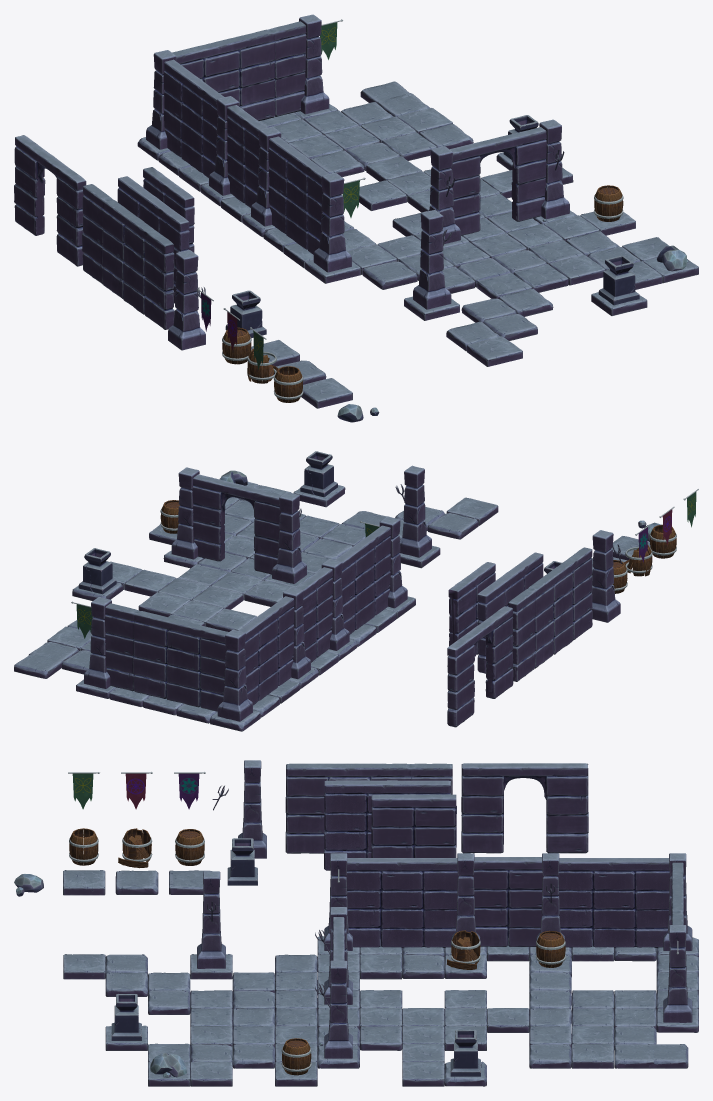
Rendered from modular_dungeon_kit.glb.
The picture shows the model from 3 angles, top to bottom: view 1: azimuth 30°, elevation 25°; view 2: azimuth 150°, elevation 25°; view 3: azimuth 270°, elevation 25°; orthographic projection. The views are drawn at different scales.
Parts seen in each view (by area): view 1: Wall3_01, Wall3_02, Wall4_02, Wall4_01, Wall2_02, Wall2_03, Wall_03, Wall2_01, Pillar_01, Pillar_04, Pillar_06, Pillar_03 (+55 smaller); view 2: Wall3_02, Wall3_01, Wall4_02, Wall4_01, Wall2_03, Wall2_02, Wall_03, Wall2_01, Wall_01, Pillar_08, Pillar_03, Pillar_06 (+43 smaller); view 3: Wall2_02, Wall2_03, Wall4_01, Wall_03, Wall3_01, Wall_01, Wall2_01, Pillar_02, Pillar_09, Pillar_06, Pillar_01, Pillar_05 (+80 smaller).
Boxes of the visible parts, left/top/right/bottom form: Wall3_01: left=82, top=184, right=174, bottom=329; Wall3_02: left=172, top=21, right=306, bottom=120; Wall4_02: left=449, top=127, right=547, bottom=235; Wall4_01: left=14, top=135, right=86, bottom=266; Wall2_02: left=267, top=136, right=329, bottom=254; Wall2_03: left=163, top=59, right=224, bottom=177; Wall_03: left=226, top=105, right=267, bottom=207; Wall2_01: left=117, top=176, right=189, bottom=303; Pillar_01: left=168, top=250, right=205, bottom=350; Pillar_04: left=313, top=172, right=351, bottom=272; Pillar_06: left=413, top=210, right=451, bottom=309; Pillar_03: left=429, top=146, right=460, bottom=243; Wall3_02: left=102, top=603, right=228, bottom=711; Wall3_01: left=508, top=547, right=592, bottom=681; Wall4_02: left=191, top=474, right=281, bottom=574; Wall4_01: left=447, top=606, right=513, bottom=727; Wall2_03: left=238, top=596, right=294, bottom=705; Wall2_02: left=335, top=525, right=391, bottom=634; Wall_03: left=295, top=567, right=333, bottom=662; Wall2_01: left=477, top=552, right=543, bottom=673; Wall_01: left=448, top=562, right=495, bottom=656; Pillar_08: left=217, top=629, right=252, bottom=721; Pillar_03: left=272, top=492, right=306, bottom=583; Pillar_06: left=399, top=465, right=431, bottom=557; Wall2_02: left=339, top=858, right=458, bottom=947; Wall2_03: left=551, top=858, right=670, bottom=947; Wall4_01: left=461, top=763, right=588, bottom=853; Wall_03: left=467, top=857, right=548, bottom=946; Wall3_01: left=285, top=763, right=452, bottom=853; Wall_01: left=371, top=794, right=456, bottom=857; Wall2_01: left=324, top=780, right=450, bottom=870; Pillar_02: left=324, top=960, right=352, bottom=1058; Pillar_09: left=663, top=925, right=692, bottom=1022; Pillar_06: left=197, top=871, right=225, bottom=968; Pillar_01: left=238, top=760, right=266, bottom=858; Pillar_05: left=451, top=853, right=480, bottom=940.
Size of the model in its own units: 3.72 by 0.734 by 4.61.
Materials: 14 (14 with a texture image).
